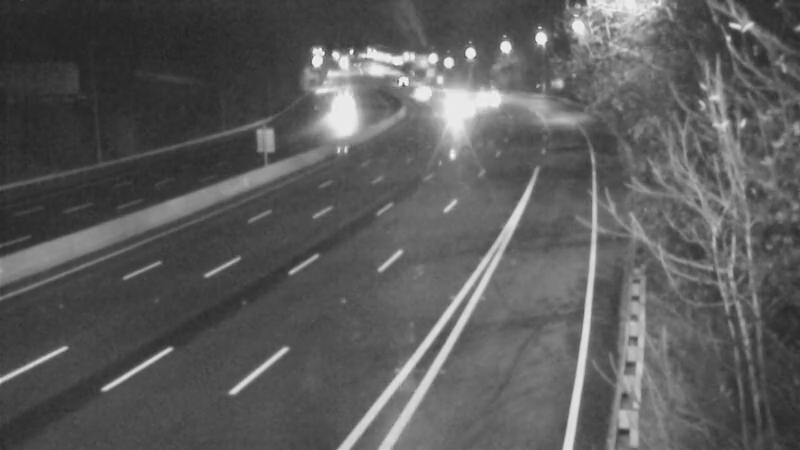vehicle: (380, 56, 430, 106), (392, 65, 442, 115), (434, 77, 484, 127), (466, 78, 516, 128), (434, 85, 484, 135), (317, 83, 367, 133)
